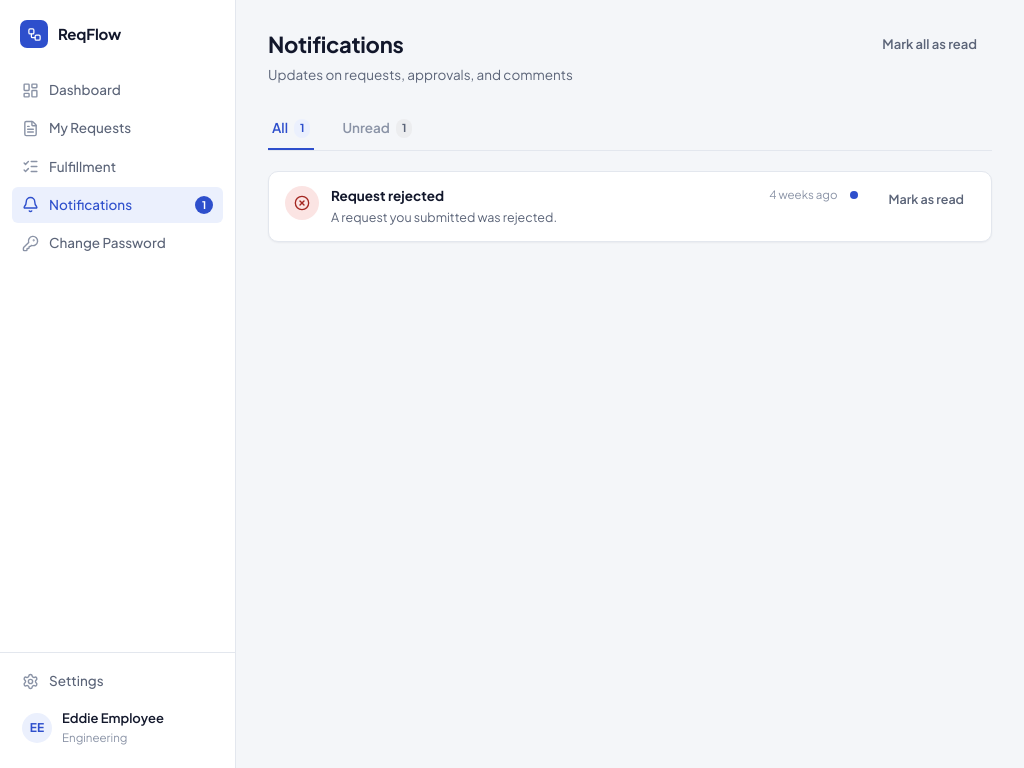
Test: NotificationsPage › marks a notification read via PATCH and refetches the real unread count, not a client guess
The image size is (1024, 768).
expect the link "Unread 1" is shown: met, box [342, 119, 412, 138]
Click the button "Mark as read".
click(926, 200)  # box [878, 186, 975, 214]
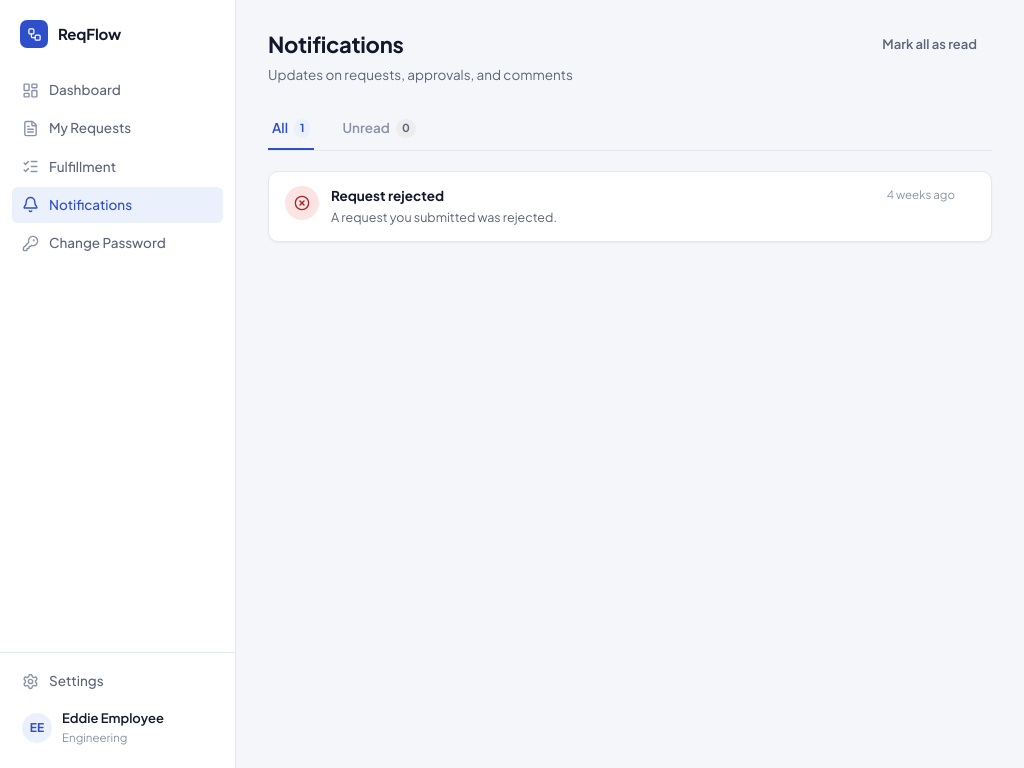
expect the button "Mark as read" is gone: met
expect the link "Unread 0" is shown: met, box [342, 119, 416, 138]
